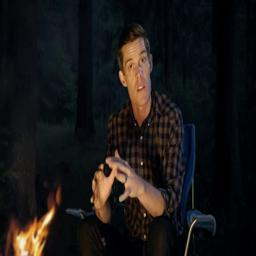fire: (9, 184, 62, 256)
